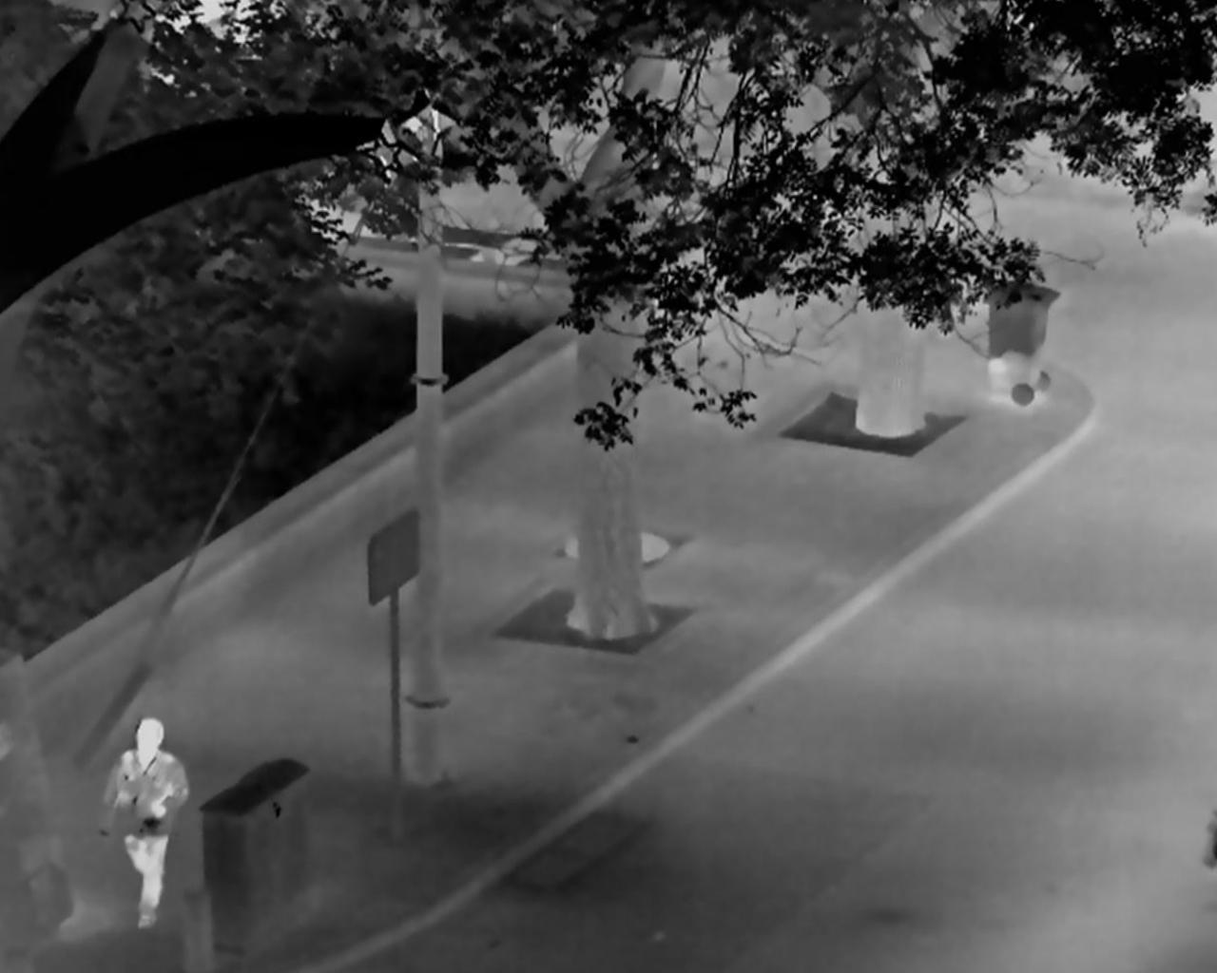person: (100, 717, 189, 932)
